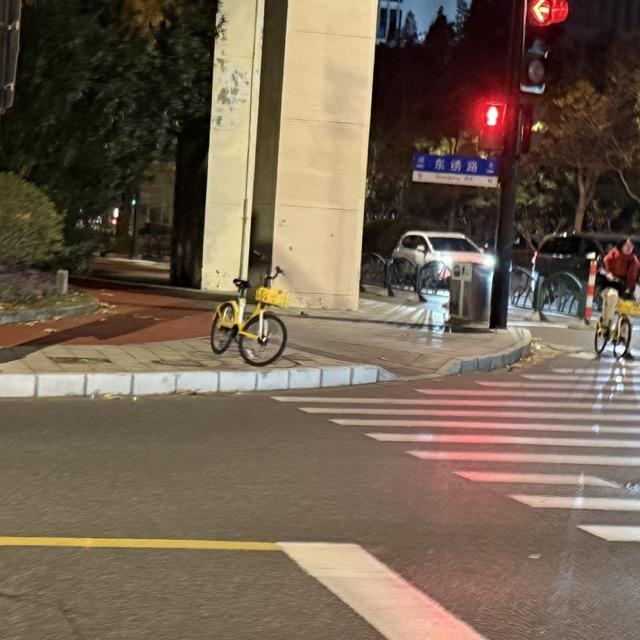curb: (0, 365, 390, 397), (440, 328, 531, 375)
